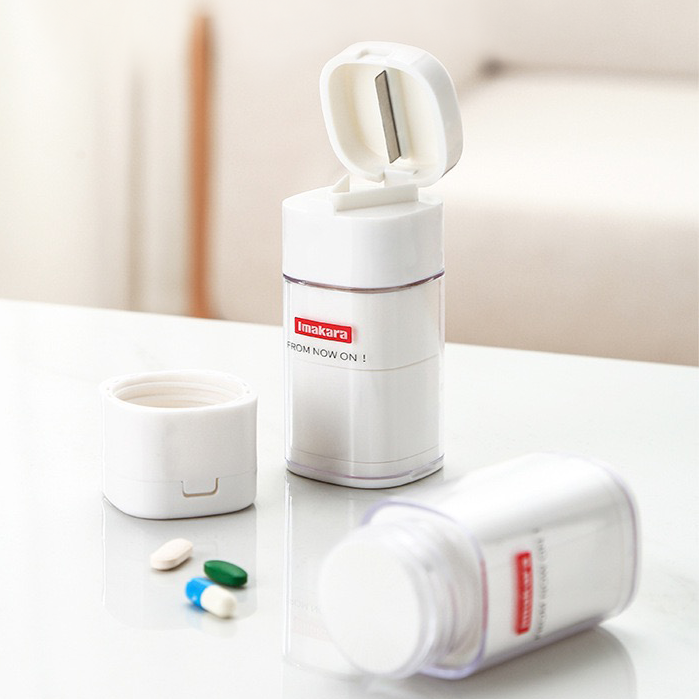medicinejar: (301, 440, 651, 699), (281, 37, 464, 504)
